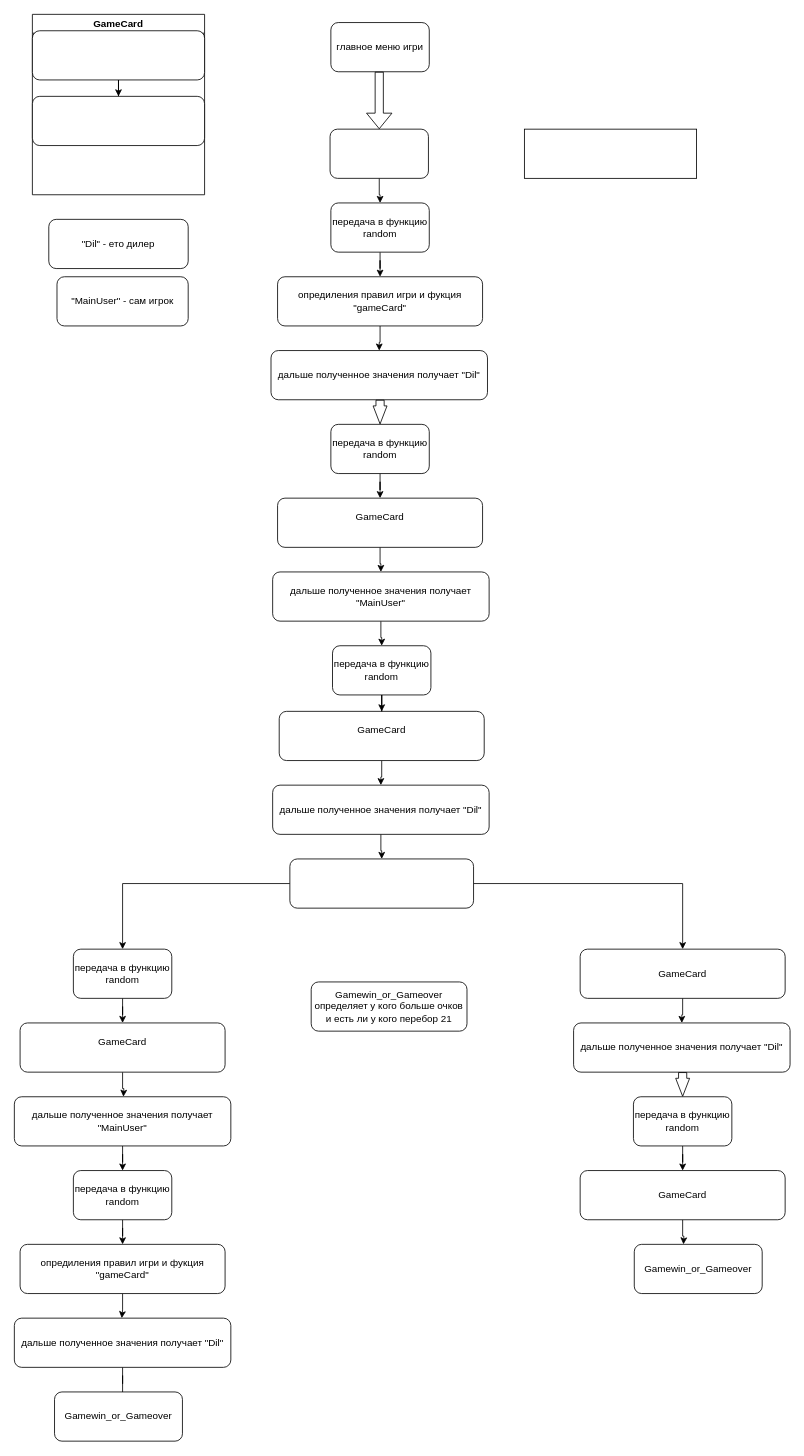
Some shapes in this 804 by 1456 pixel diagram are drawn without their labels. The centre of each missing label's shape, as x and y in pixels:
"GameCard" это функция для определения карти и ее количество очков: [118,55]
"MainUser" делает вибор взять карту или нет или удвоить: [381,883]
"random" это функия которая создает рандомные числа от 0 до 12: [610,153]
потом после определения карти выходит с функции: [118,121]
стандартная игра 3 раунда долгая игра 1000 раундов: [378,153]
